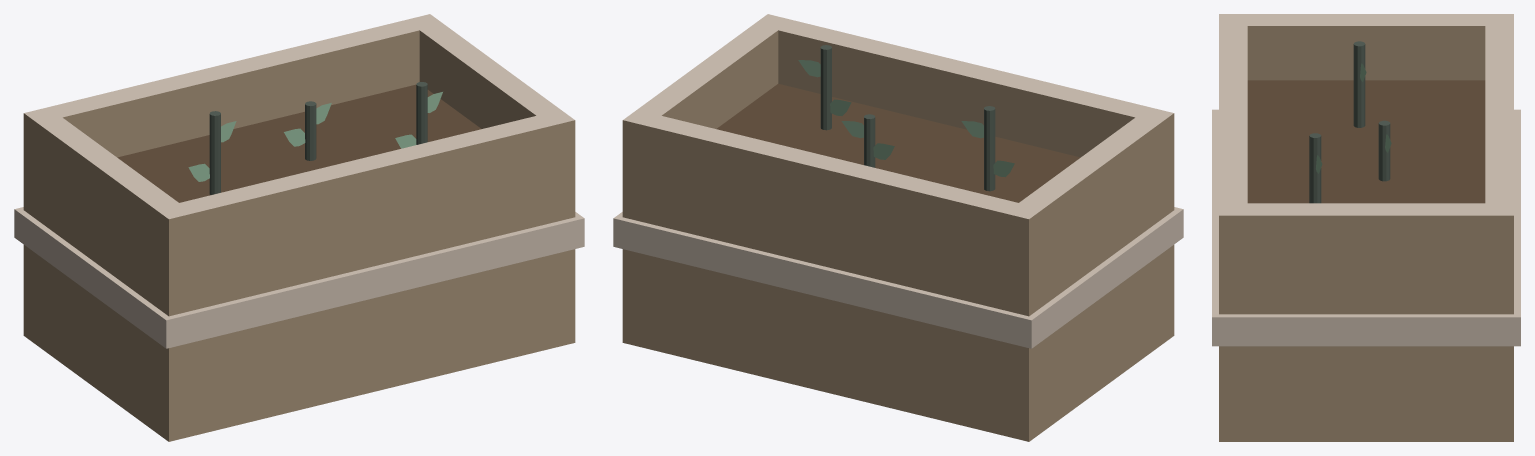
Rendered from Maseta 1.fbx.
The picture shows the model from 3 angles, left to right: view 1: azimuth 30°, elevation 25°; view 2: azimuth 150°, elevation 25°; view 3: azimuth 270°, elevation 25°; orthographic projection.
Parts seen in each view (by area): view 1: Maseta_sola_1, Tallo (×3); view 2: Maseta_sola_1, Tallo (×3); view 3: Maseta_sola_1, Tallo (×3).
Part boxes in pixels (left/top/right/bottom): Maseta_sola_1: left=14, top=14, right=584, bottom=441; Tallo (×3): left=209, top=82, right=427, bottom=194; Maseta_sola_1: left=613, top=14, right=1183, bottom=441; Tallo (×3): left=820, top=45, right=995, bottom=191; Maseta_sola_1: left=1212, top=14, right=1520, bottom=441; Tallo (×3): left=1309, top=41, right=1390, bottom=203.
Bounding box in the file's own units: 2.81 × 1.61 × 1.77.
